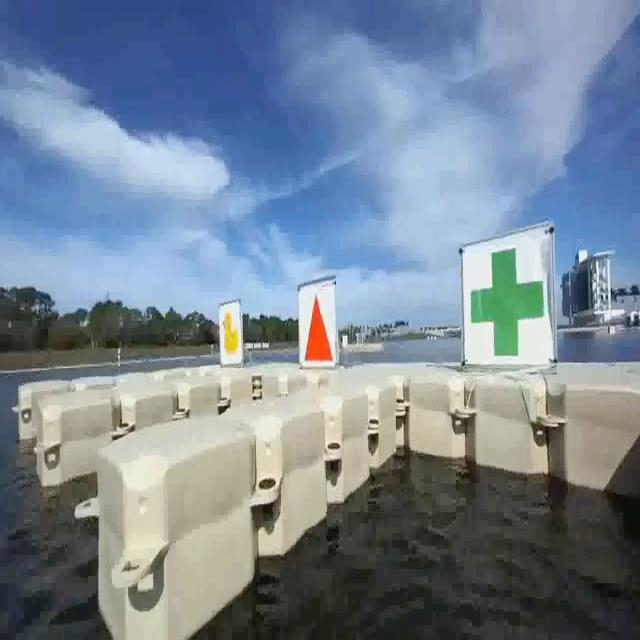blue-cross: (462, 244, 550, 362)
red-dot: (298, 279, 334, 361)
yellow-duck: (217, 307, 241, 363)
